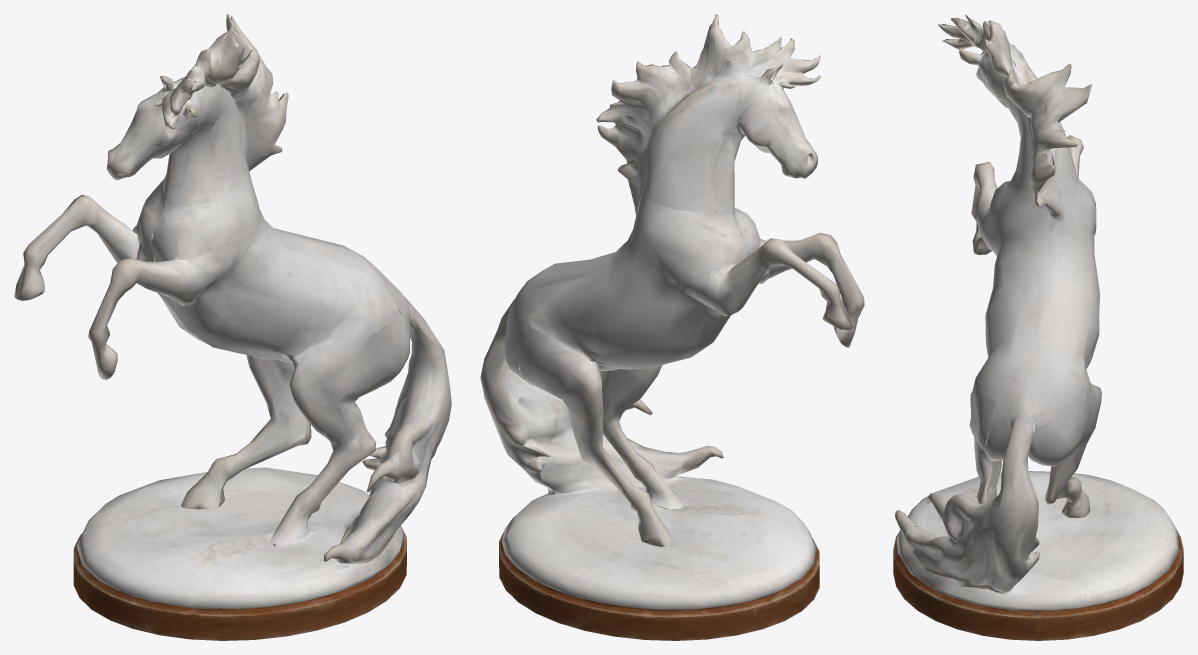
File: ph_horse_statue_01.glb
The picture shows the model from 3 angles, left to right: view 1: azimuth 30°, elevation 25°; view 2: azimuth 150°, elevation 25°; view 3: azimuth 270°, elevation 25°; orthographic projection. The views are drawn at different scales.
Visible parts, largest first — view 1: horse_statue_01; view 2: horse_statue_01; view 3: horse_statue_01.
Boxes of the visible parts, x1=… form: horse_statue_01: x1=14, y1=14, x2=451, y2=640; horse_statue_01: x1=480, y1=14, x2=864, y2=640; horse_statue_01: x1=893, y1=14, x2=1183, y2=640.
Size of the model in its own units: 0.1629 by 0.22 by 0.1078.
Materials: 2 (2 with a texture image).
